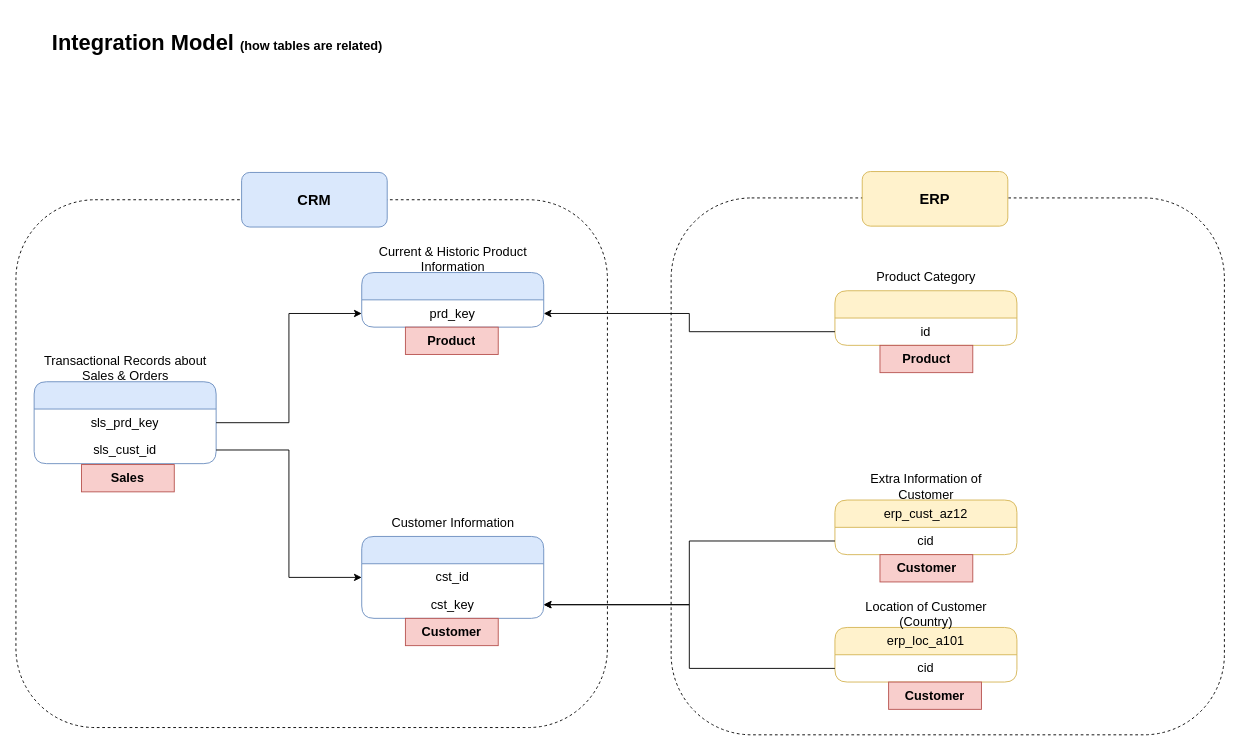
Some shapes in this 1240 by 751 pixel diagram are drawn without their labels. The box of each missing label's shape, as (x1, y1, x2, y2) in pixels:
crm_cust_info: (361, 536, 544, 618)
crm_prd_info: (361, 272, 544, 327)
crm_sales_details: (33, 381, 216, 464)
erp_px_cst_g1v2: (834, 290, 1017, 345)
